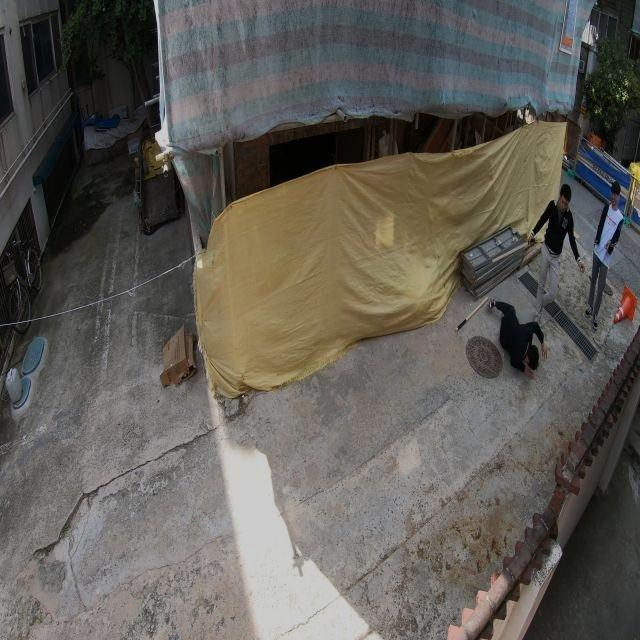fight: (489, 181, 581, 376)
non-fight: (583, 180, 623, 329)
